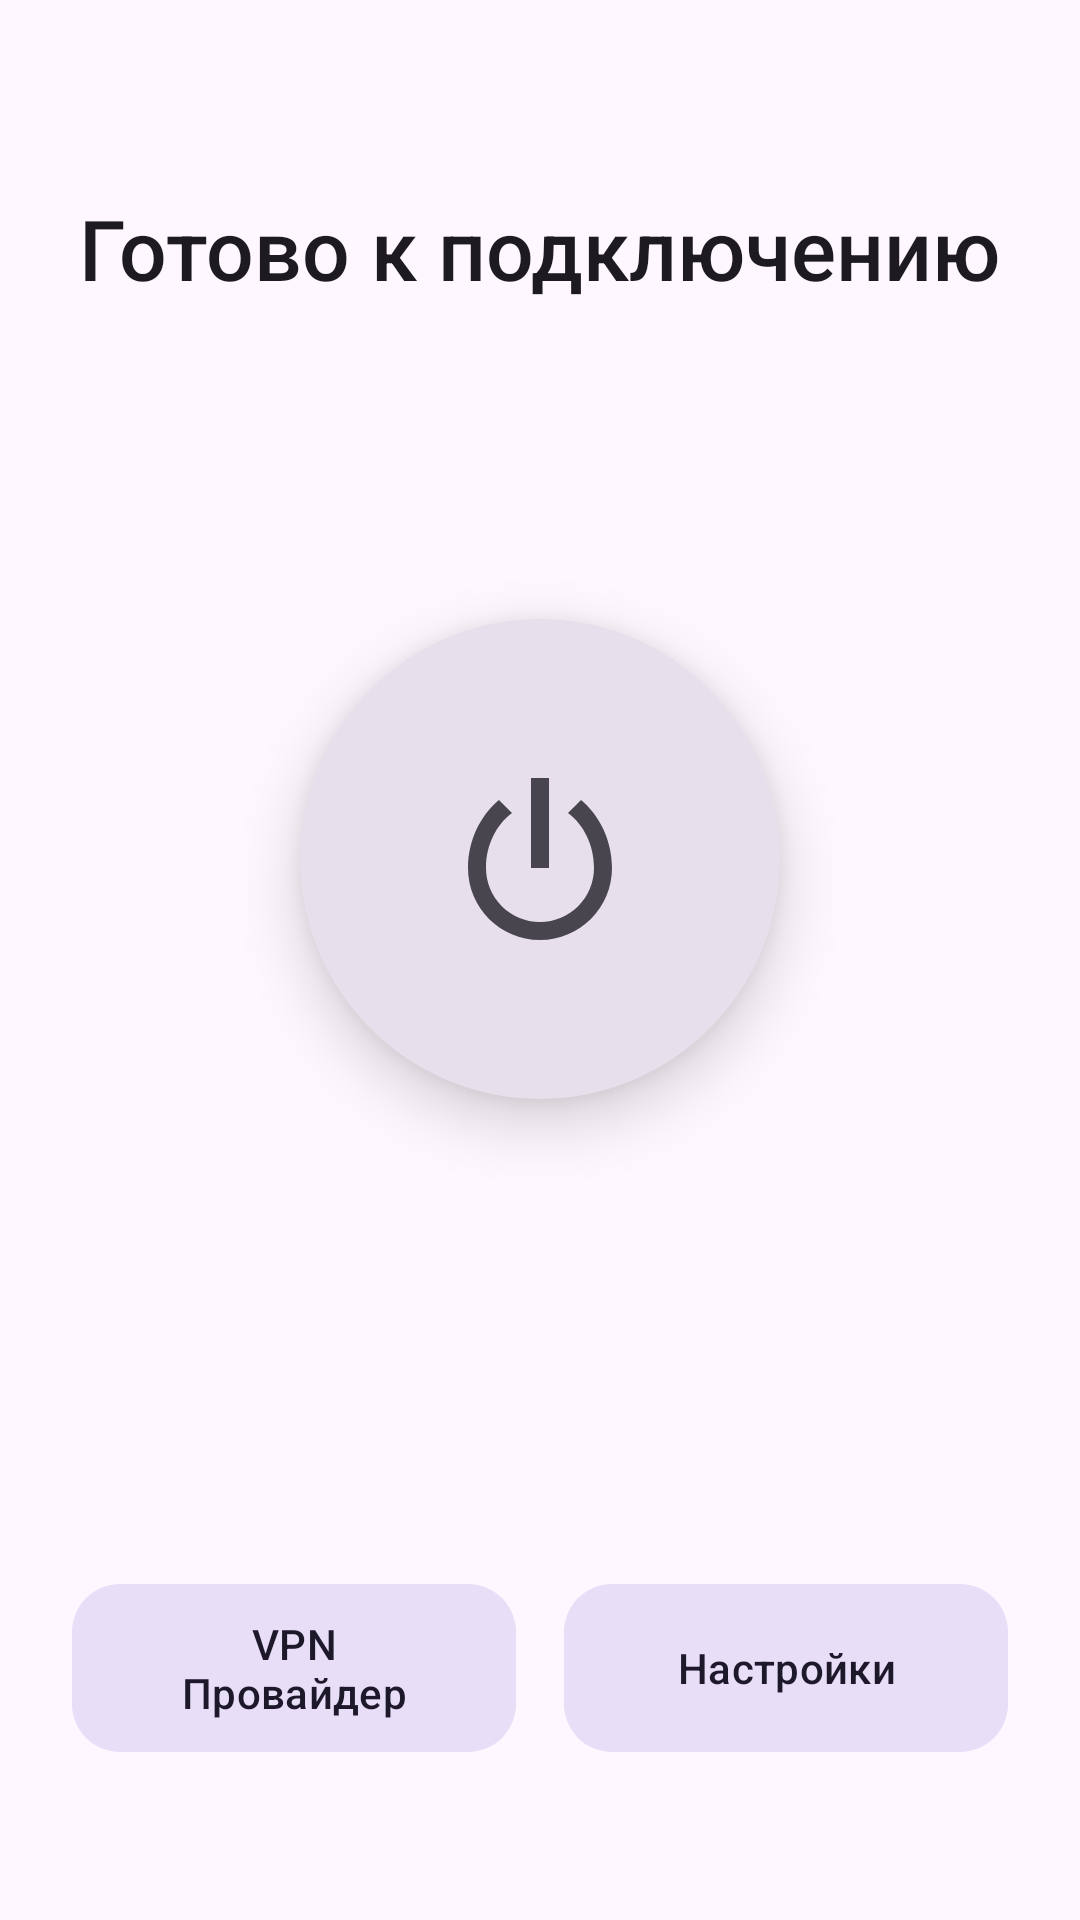

Where icons sit on this 1080×1920 app screen, as (x1=x1, y1=y1, x2=x2, y2=y2):
power: (x1=468, y1=778, x2=612, y2=940)
